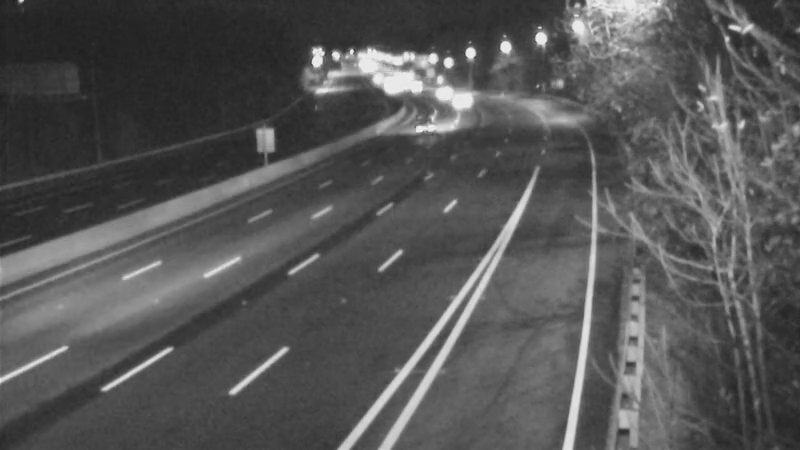vehicle: (413, 64, 463, 114), (442, 75, 492, 125), (399, 101, 449, 151)
